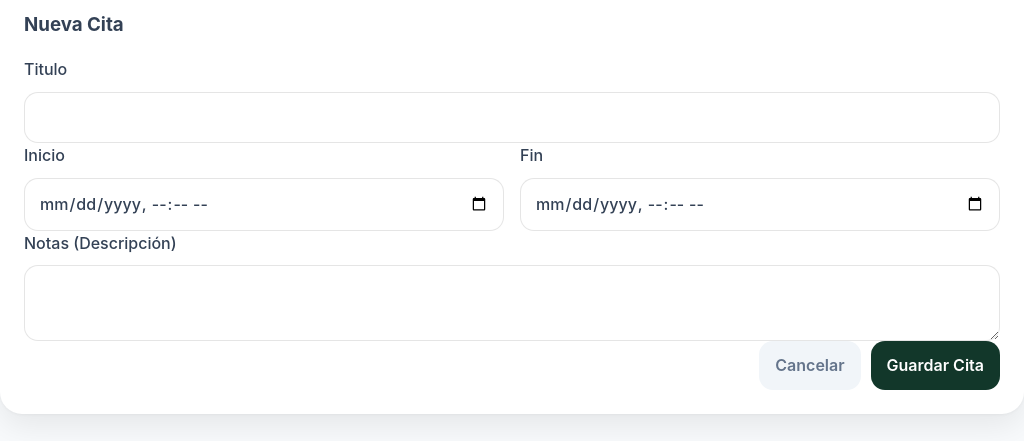
it: AppointmentForm › autocompleta la hora de fin (+1h) al elegir el inicio
Type "2026-06-10T10:00" into the field labelled "Inicio". click: (264, 204)
box: [24, 178, 504, 231]
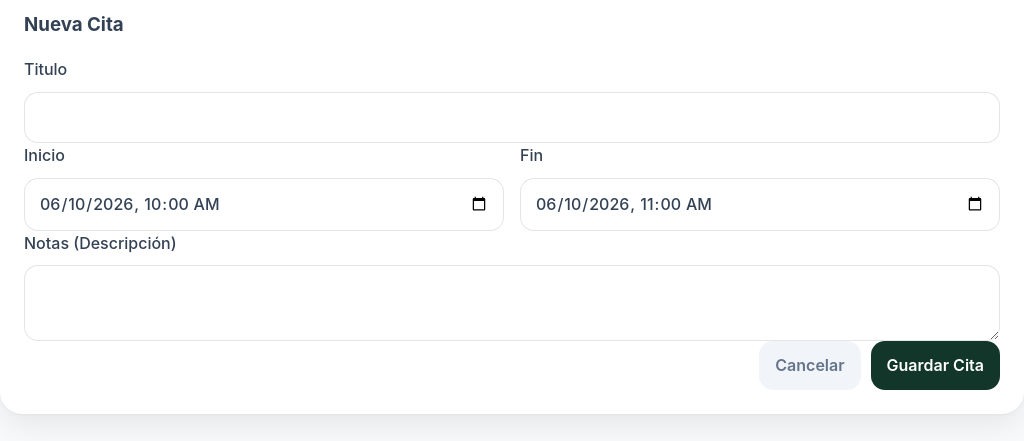
expect the field labelled "Fin" holds "2026-06-10T11:00": met, box [520, 178, 1000, 231]
